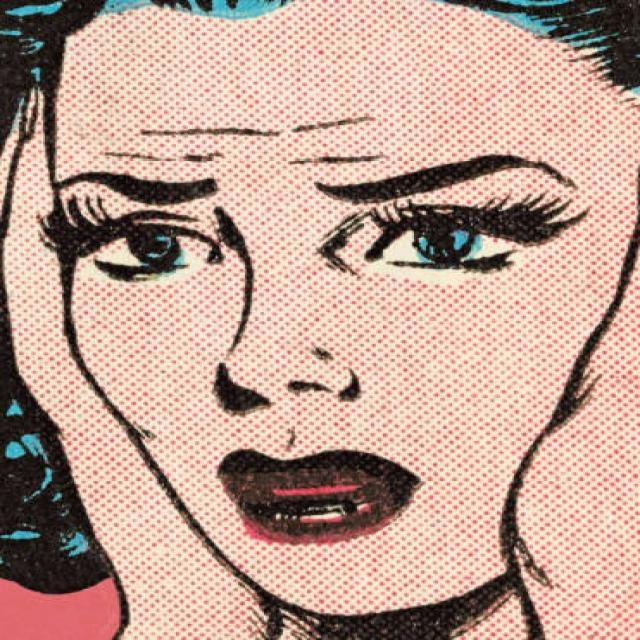Anxiety: (47, 0, 638, 625)
